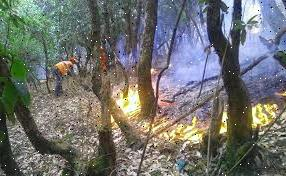fire: (154, 116, 207, 150), (114, 86, 146, 118), (251, 98, 280, 130)
